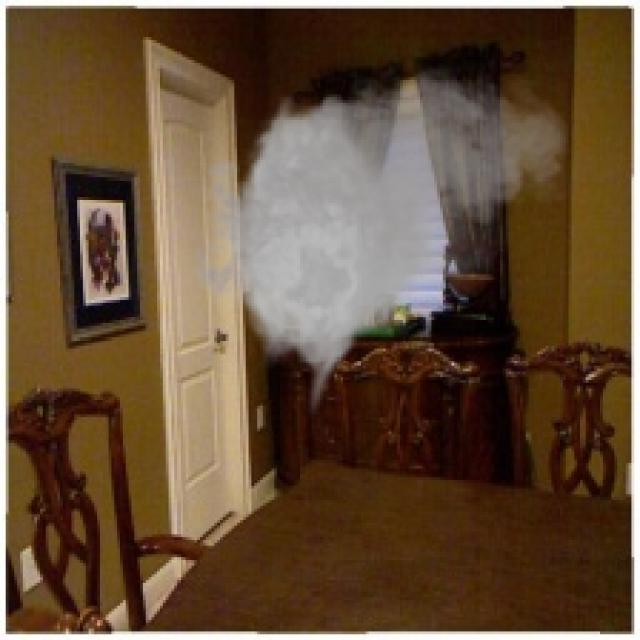smoke: (180, 57, 574, 420)
